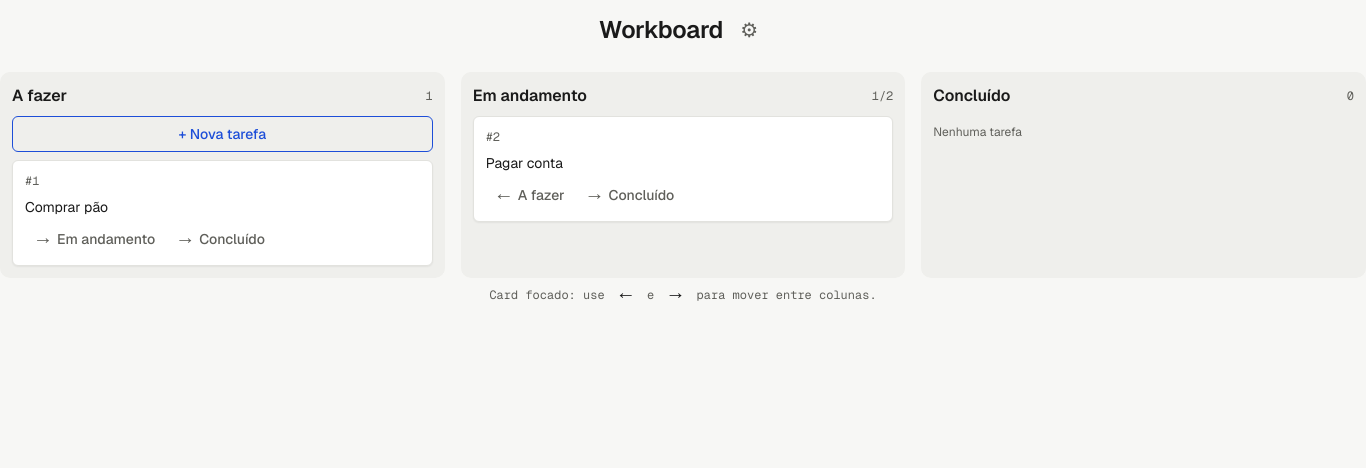
BoardView › moves a task to the chosen column
Click the button with aria-label "Mover #1 para Em andamento" at (94, 239), box [25, 225, 163, 253]
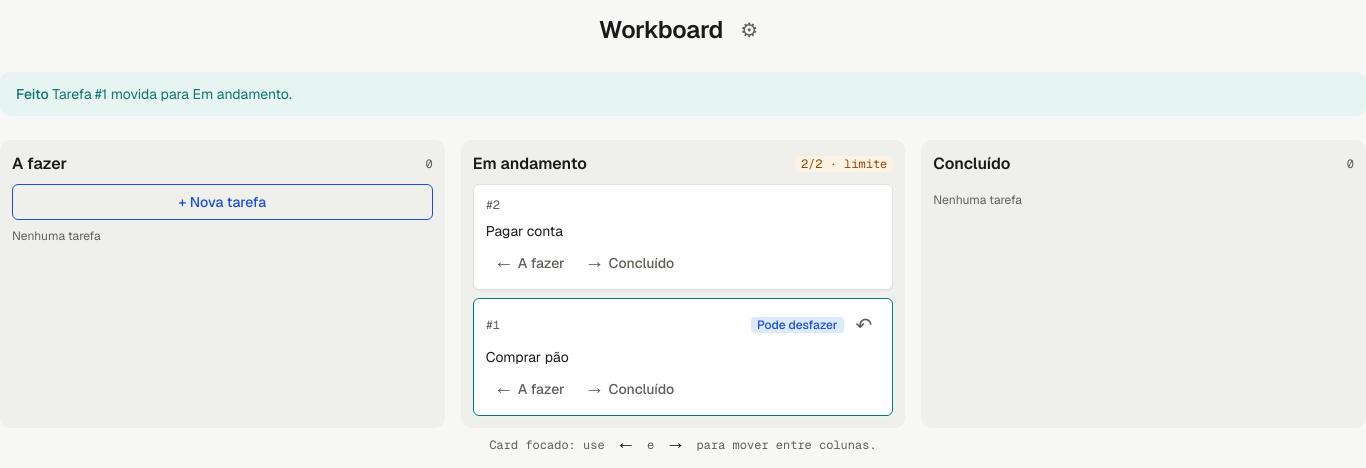
Expected: the text "Comprar pão" is shown, [486, 348, 569, 366]
Result: the message shows "Tarefa #1 movida para Em andamento." at [52, 85, 292, 103]
